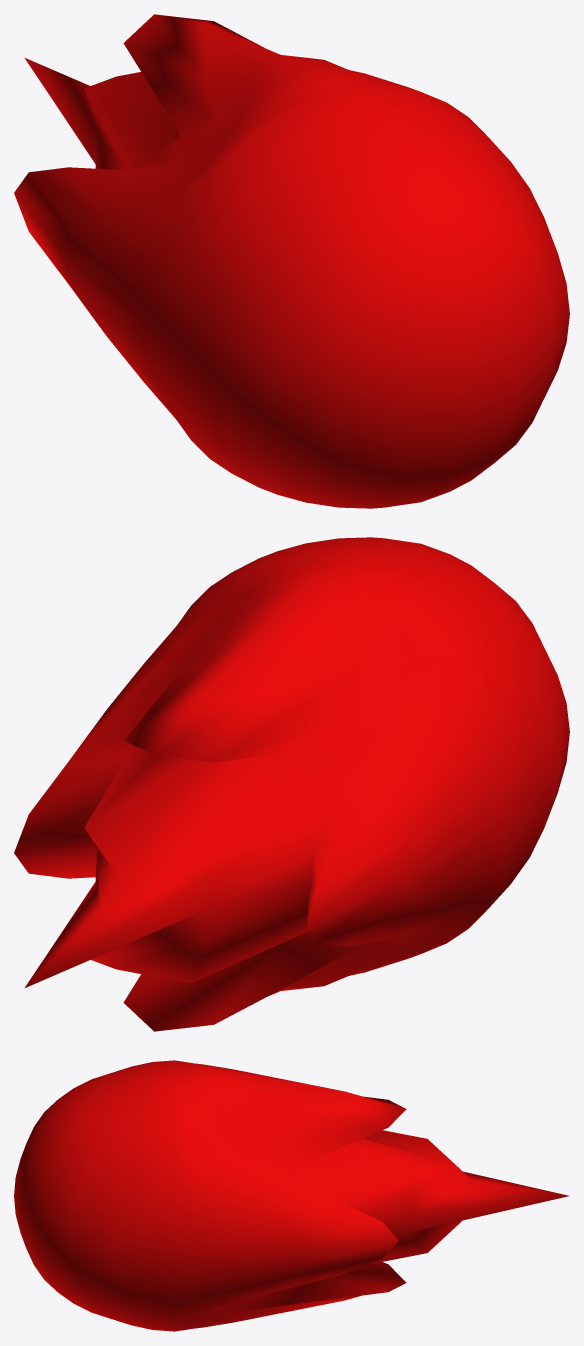
File: Fire_shot.fbx
3 renders of one model, top to bottom at view 1: azimuth 30°, elevation 25°; view 2: azimuth 150°, elevation 25°; view 3: azimuth 270°, elevation 25°, orthographic. The views are drawn at different scales.
Parts seen in each view (by area): view 1: pSphere1; view 2: pSphere1; view 3: pSphere1.
Part boxes in pixels (x1=…): pSphere1: x1=14, y1=14, x2=569, y2=508; pSphere1: x1=14, y1=537, x2=569, y2=1031; pSphere1: x1=14, y1=1060, x2=568, y2=1331.
Bounding box in the file's own units: 0.9845 × 1.02 × 2.06.
